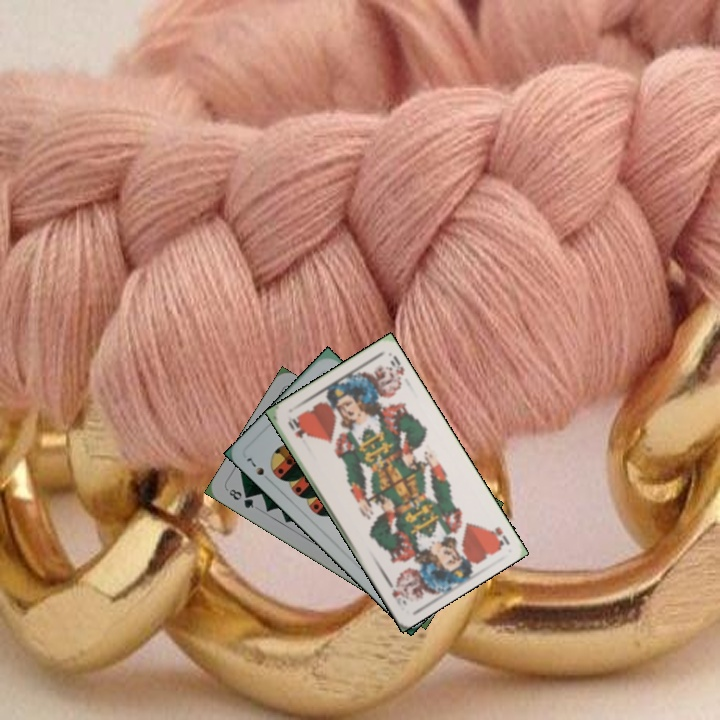G8: (225, 485, 256, 511)
HO: (485, 523, 512, 551), (284, 413, 306, 441)
S7: (242, 454, 274, 485)
